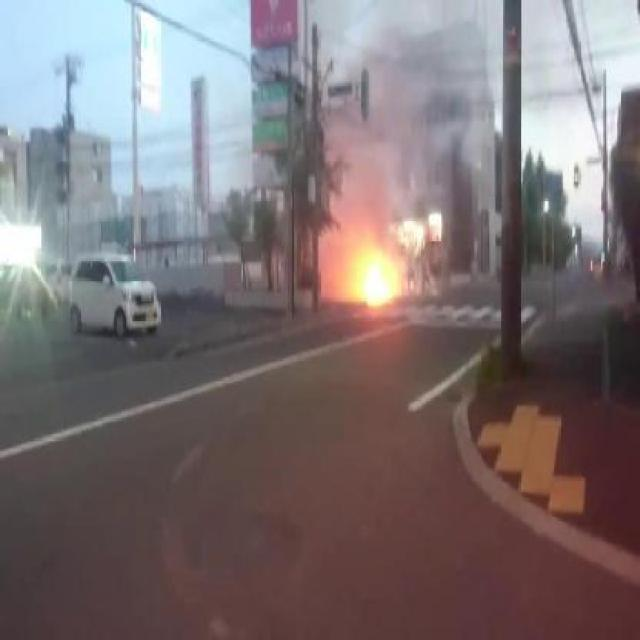Fire: (361, 260, 397, 306)
